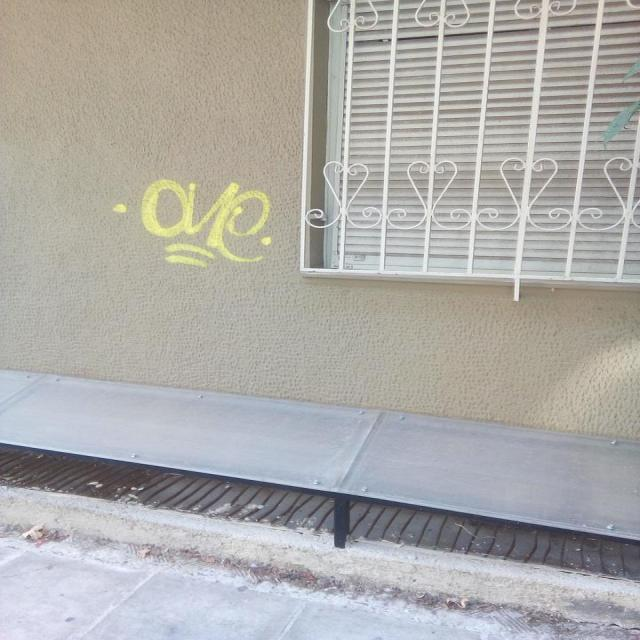nonspitting: (115, 178, 274, 265)
